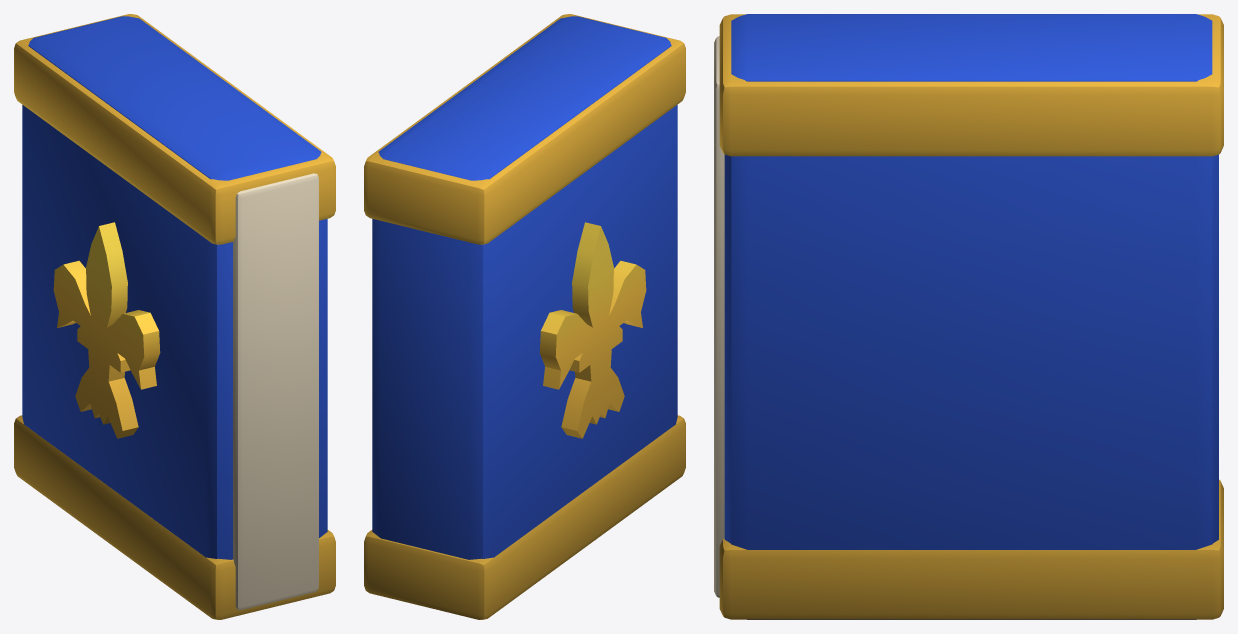
Rendered from Prop_HolyBook.fbx.
The picture shows the model from 3 angles, left to right: view 1: azimuth 30°, elevation 25°; view 2: azimuth 150°, elevation 25°; view 3: azimuth 270°, elevation 25°; orthographic projection. The views are drawn at different scales.
Visible parts, largest first — view 1: HolyBook; view 2: HolyBook; view 3: HolyBook.
Part boxes in pixels (box(x1,y1,x2,y2)): HolyBook: box(14, 14, 335, 619); HolyBook: box(364, 14, 685, 619); HolyBook: box(714, 14, 1223, 619).
Bounding box in the file's own units: 0.0519 × 0.16 × 0.1341.
